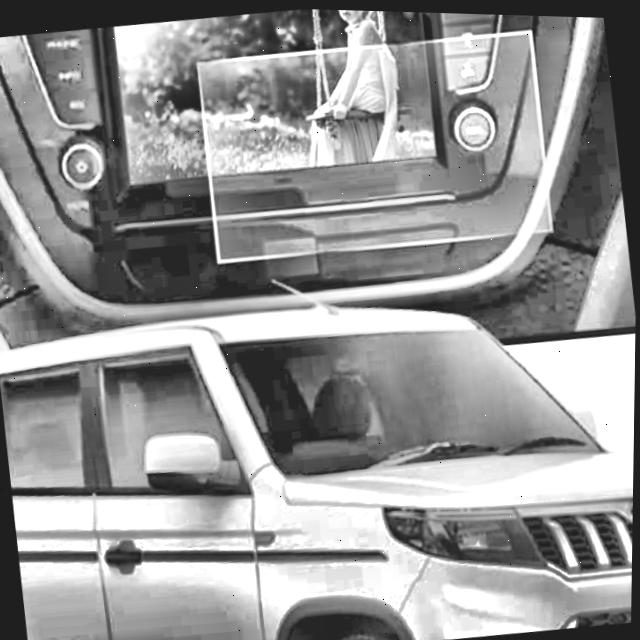light_vehicle: (0, 260, 637, 640)
